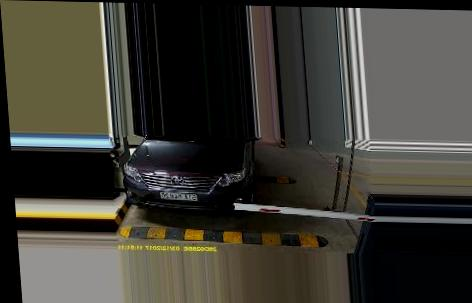License_Plate: (160, 189, 200, 201)
